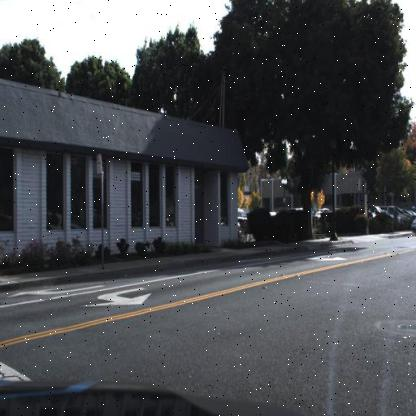car: (410, 212, 416, 236)
